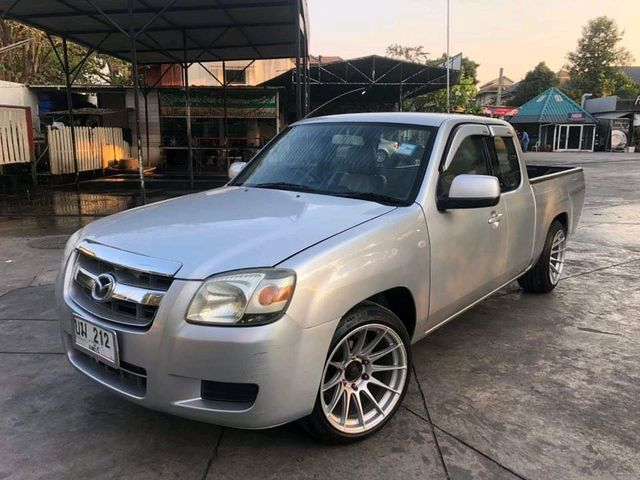pickup: (52, 107, 589, 444)
